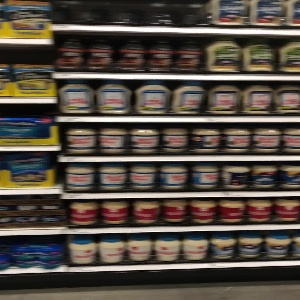void: (51, 1, 209, 28)
